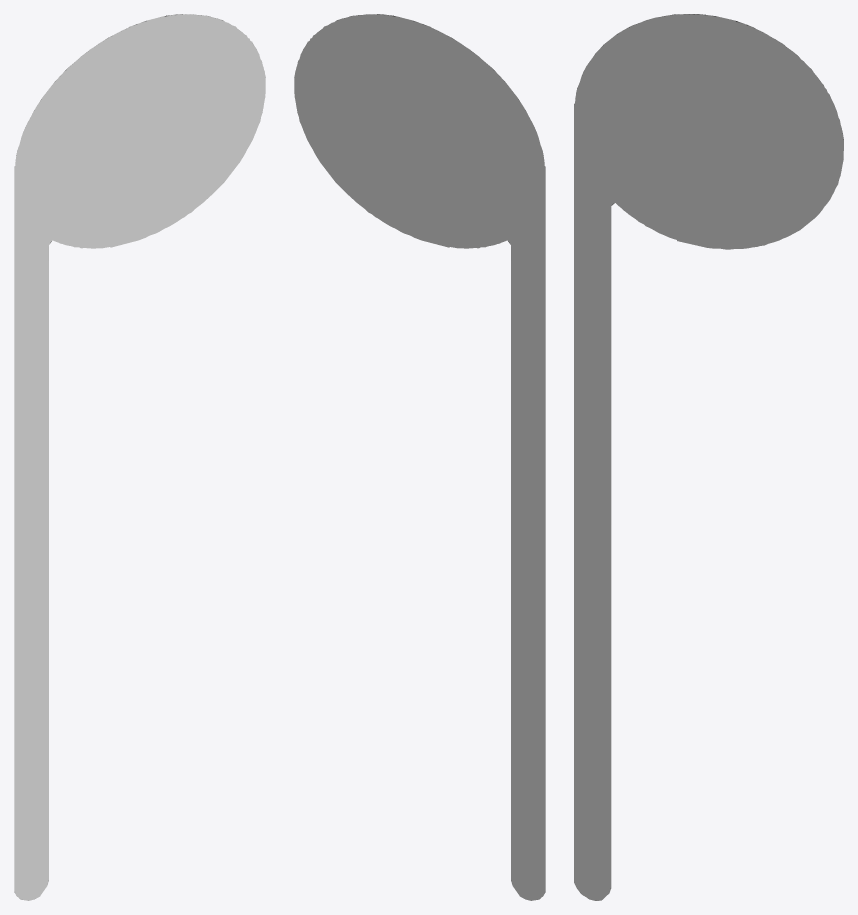
Rendered from fourth_note.c3662c39.glb.
3 views of the same model, side by side, from view 1: azimuth 30°, elevation 25°; view 2: azimuth 150°, elevation 25°; view 3: azimuth 330°, elevation 25° (orthographic). The views are drawn at different scales.
Visible parts, largest first — view 1: fourth_note_texture.001; view 2: fourth_note_texture.001; view 3: fourth_note_texture.001.
Boxes of the visible parts, x1=… form: fourth_note_texture.001: x1=14, y1=14, x2=265, y2=900; fourth_note_texture.001: x1=294, y1=14, x2=545, y2=900; fourth_note_texture.001: x1=574, y1=14, x2=843, y2=900.
Size of the model in its own units: 2.76 by 8.94 by 1.51e-06.
1 material, 1 textured.
